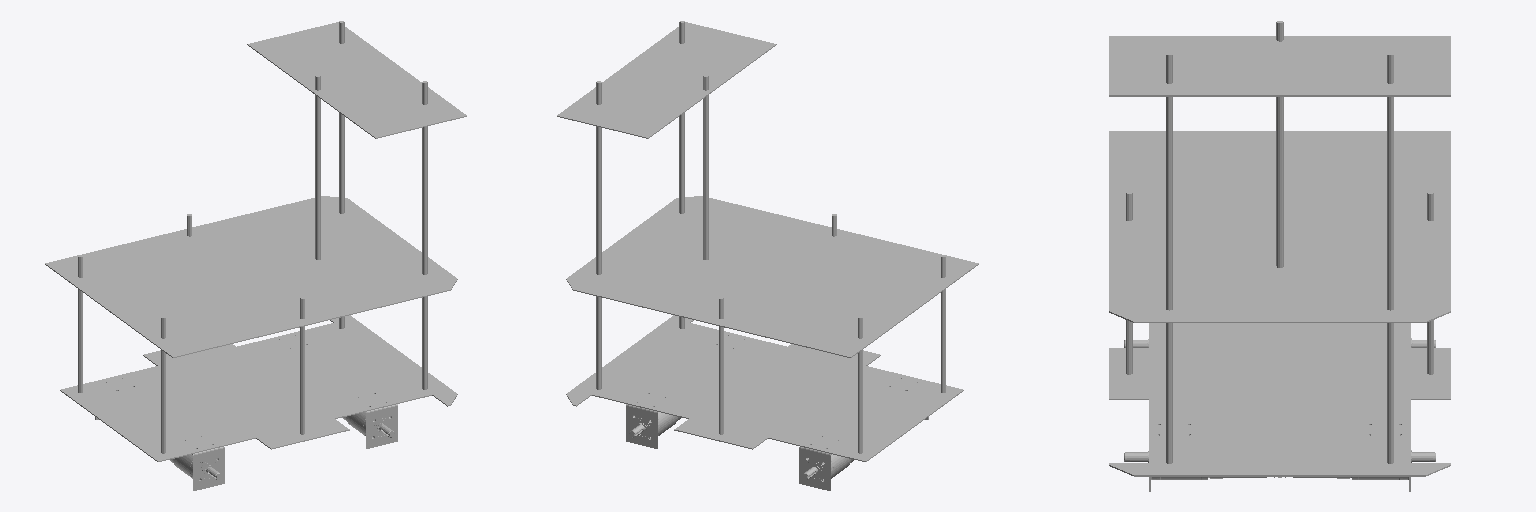
The robot description file, URDF, robot "robot_model":
<?xml version="1.0" encoding="utf-8"?>
<!-- This URDF was automatically created by SolidWorks to URDF Exporter! Originally created by [author] ([email redacted]) 
     Commit Version: 1.6.0-4-g7f85cfe  Build Version: 1.6.7995.38578
     For more information, please see http://wiki.ros.org/sw_urdf_exporter -->
<robot
  name="robot_model">
  <link
    name="base_link">
    <inertial>
      <origin
        xyz="-0.00129317332165214 0.0633151057935385 0.20967680234071"
        rpy="0 0 0" />
      <mass
        value="2.46400788552371" />
      <inertia
        ixx="0.0156552623977409"
        ixy="6.13168728460666E-07"
        ixz="4.97876214864074E-08"
        iyy="0.0128972120652041"
        iyz="-6.1948976953821E-06"
        izz="0.0259906671046005" />
    </inertial>
    <visual>
      <origin
        xyz="0 0 0"
        rpy="0 0 0" />
      <geometry>
        <mesh
          filename="package://robot_model/meshes/base_link.STL" />
      </geometry>
      <material
        name="">
        <color
          rgba="0.752941176470588 0.752941176470588 0.752941176470588 1" />
      </material>
    </visual>
    <collision>
      <origin
        xyz="0 0 0"
        rpy="0 0 0" />
      <geometry>
        <mesh
          filename="package://robot_model/meshes/base_link.STL" />
      </geometry>
    </collision>
  </link>
  <link
    name="banh_1">
    <inertial>
      <origin
        xyz="0.00478560391495947 4.00242339271273E-12 -4.02800015564253E-12"
        rpy="0 0 0" />
      <mass
        value="1.070800460582" />
      <inertia
        ixx="0.00171765472312292"
        ixy="-2.2673349904122E-15"
        ixz="-2.19745156294512E-15"
        iyy="0.000917266613126272"
        iyz="4.62511972586104E-15"
        izz="0.000917266613128284" />
    </inertial>
    <visual>
      <origin
        xyz="0 0 0"
        rpy="0 0 0" />
      <geometry>
        <mesh
          filename="package://robot_model/meshes/banh_1.STL" />
      </geometry>
      <material
        name="">
        <color
          rgba="0.752941176470588 0.752941176470588 0.752941176470588 1" />
      </material>
    </visual>
    <collision>
      <origin
        xyz="0 0 0"
        rpy="0 0 0" />
      <geometry>
        <mesh
          filename="package://robot_model/meshes/banh_1.STL" />
      </geometry>
    </collision>
  </link>
  <joint
    name="banh1"
    type="continuous">
    <origin
      xyz="0.17 0.120737224153524 0.0679802778819374"
      rpy="0 0 0" />
    <parent
      link="base_link" />
    <child
      link="banh_1" />
    <axis
      xyz="-1 0 0" />
  </joint>
  <link
    name="banh_2">
    <inertial>
      <origin
        xyz="-0.00448087120122588 4.54719595310848E-12 3.64067109792643E-12"
        rpy="0 0 0" />
      <mass
        value="1.07080046058213" />
      <inertia
        ixx="0.00171765472312301"
        ixy="2.24136253495583E-15"
        ixz="-2.09589478662777E-15"
        iyy="0.000917266613123066"
        iyz="-1.18490057659235E-15"
        izz="0.000917266613131581" />
    </inertial>
    <visual>
      <origin
        xyz="0 0 0"
        rpy="0 0 0" />
      <geometry>
        <mesh
          filename="package://robot_model/meshes/banh_2.STL" />
      </geometry>
      <material
        name="">
        <color
          rgba="0.752941176470588 0.752941176470588 0.752941176470588 1" />
      </material>
    </visual>
    <collision>
      <origin
        xyz="0 0 0"
        rpy="0 0 0" />
      <geometry>
        <mesh
          filename="package://robot_model/meshes/banh_2.STL" />
      </geometry>
    </collision>
  </link>
  <joint
    name="banh2"
    type="continuous">
    <origin
      xyz="0.18 -0.134262775846476 0.0679802778819374"
      rpy="0 0 0" />
    <parent
      link="base_link" />
    <child
      link="banh_2" />
    <axis
      xyz="-1 0 0" />
  </joint>
  <link
    name="banh_3">
    <inertial>
      <origin
        xyz="-0.00380407176111935 2.39230857346229E-12 -5.81446002456687E-12"
        rpy="0 0 0" />
      <mass
        value="1.070800460583" />
      <inertia
        ixx="0.00171765472312322"
        ixy="-1.64665403292451E-15"
        ixz="-2.65831930927722E-15"
        iyy="0.000917266613123829"
        iyz="7.37123130673403E-16"
        izz="0.000917266613131039" />
    </inertial>
    <visual>
      <origin
        xyz="0 0 0"
        rpy="0 0 0" />
      <geometry>
        <mesh
          filename="package://robot_model/meshes/banh_3.STL" />
      </geometry>
      <material
        name="">
        <color
          rgba="0.752941176470588 0.752941176470588 0.752941176470588 1" />
      </material>
    </visual>
    <collision>
      <origin
        xyz="0 0 0"
        rpy="0 0 0" />
      <geometry>
        <mesh
          filename="package://robot_model/meshes/banh_3.STL" />
      </geometry>
    </collision>
  </link>
  <joint
    name="banh3"
    type="continuous">
    <origin
      xyz="-0.17 -0.134262775846476 0.0679802778819374"
      rpy="0 0 0" />
    <parent
      link="base_link" />
    <child
      link="banh_3" />
    <axis
      xyz="1 0 0" />
  </joint>
  <link
    name="banh_4">
    <inertial>
      <origin
        xyz="-0.0041033667660848 2.96224241264076E-06 8.17679257636428E-14"
        rpy="0 0 0" />
      <mass
        value="1.0708004605838" />
      <inertia
        ixx="0.00171765472233705"
        ixy="-2.50792265369593E-08"
        ixz="-1.82117201268443E-15"
        iyy="0.000917266613913914"
        iyz="-3.99512264913169E-15"
        izz="0.000917266613126439" />
    </inertial>
    <visual>
      <origin
        xyz="0 0 0"
        rpy="0 0 0" />
      <geometry>
        <mesh
          filename="package://robot_model/meshes/banh_4.STL" />
      </geometry>
      <material
        name="">
        <color
          rgba="0.752941176470588 0.752941176470588 0.752941176470588 1" />
      </material>
    </visual>
    <collision>
      <origin
        xyz="0 0 0"
        rpy="0 0 0" />
      <geometry>
        <mesh
          filename="package://robot_model/meshes/banh_4.STL" />
      </geometry>
    </collision>
  </link>
  <joint
    name="banh4"
    type="continuous">
    <origin
      xyz="-0.17 0.120737224153524 0.0679802778819374"
      rpy="0 0 0" />
    <parent
      link="base_link" />
    <child
      link="banh_4" />
    <axis
      xyz="0.999999999509095 -3.1333831926883E-05 0" />
  </joint>
</robot>

--- Render facts (derived) ---
Views: 3 orthographic renders of the robot side by side, from view 1: azimuth 30°, elevation 25°; view 2: azimuth 150°, elevation 25°; view 3: azimuth 270°, elevation 25°.
Model robot_model with 5 links and 4 joints (4 continuous), rooted at base_link, posed all joints at 0.
Visible links, largest first — view 1: base_link; view 2: base_link; view 3: base_link.
Boxes of the visible links, bbox=[...] form: base_link: bbox=[45, 21, 466, 490]; base_link: bbox=[557, 21, 978, 490]; base_link: bbox=[1109, 21, 1450, 491].
Bounding box of the posed robot: 0.45 × 0.34 × 0.505 m (x, y, z).
1 mesh visuals loaded from 5 distinct referenced files (1 binary STL); not drawn: 4 (reference not matched to a file when rendering).